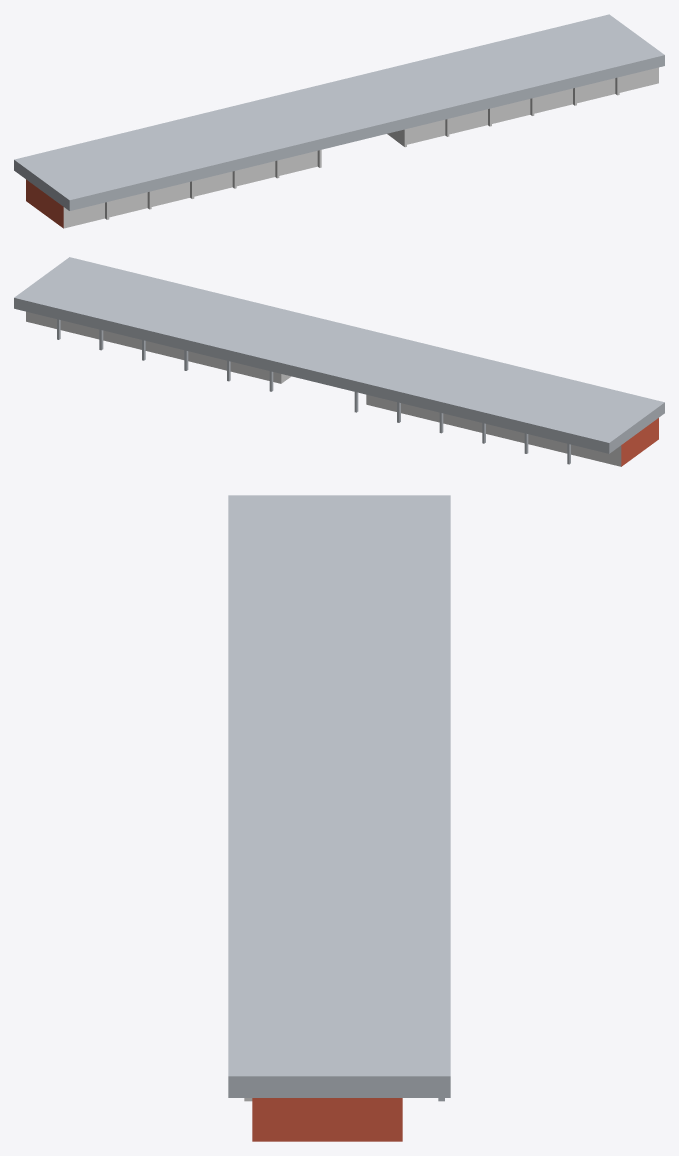
File: labs1_eixo1.glb
3 renders of one model, top to bottom at view 1: azimuth 30°, elevation 25°; view 2: azimuth 150°, elevation 25°; view 3: azimuth 270°, elevation 25°, orthographic. The views are drawn at different scales.
Parts seen in each view (by area): view 1: Laboratórios 1 - Eixo 1; view 2: Laboratórios 1 - Eixo 1; view 3: Laboratórios 1 - Eixo 1.
Part boxes in pixels (box(x1,y1,x2,y2)): Laboratórios 1 - Eixo 1: box(14, 14, 664, 228); Laboratórios 1 - Eixo 1: box(14, 257, 664, 466); Laboratórios 1 - Eixo 1: box(228, 495, 450, 1141).
Size of the model in its own units: 85.82 by 4.5 by 13.89.
